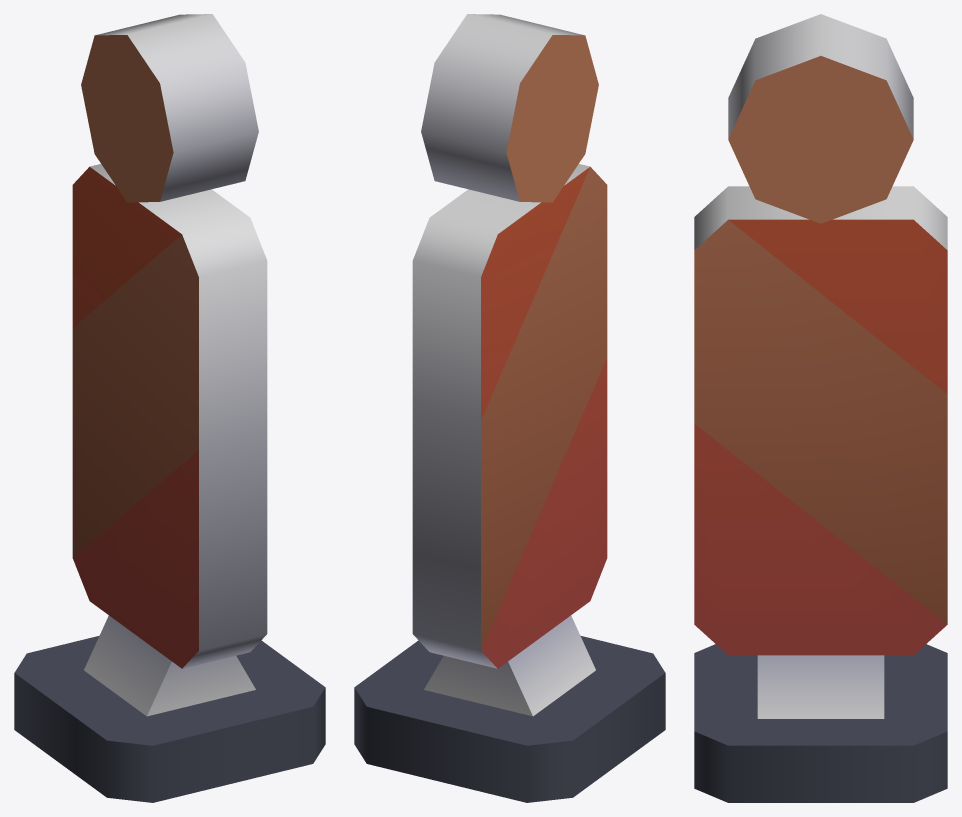
The model's file is construction-light.glb.
3 views of the same model, side by side, from view 1: azimuth 30°, elevation 25°; view 2: azimuth 150°, elevation 25°; view 3: azimuth 270°, elevation 25° (orthographic).
Visible parts, largest first — view 1: construction-light; view 2: construction-light; view 3: construction-light.
Part boxes in pixels (<box>): construction-light: <box>14,14,325,802</box>; construction-light: <box>354,14,665,802</box>; construction-light: <box>694,14,947,802</box>.
Bounding box in the file's own units: 0.075 × 0.2337 × 0.075.
